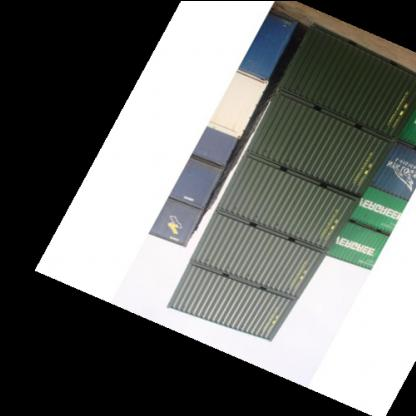Damage: (257, 148, 292, 164), (270, 216, 284, 232)
